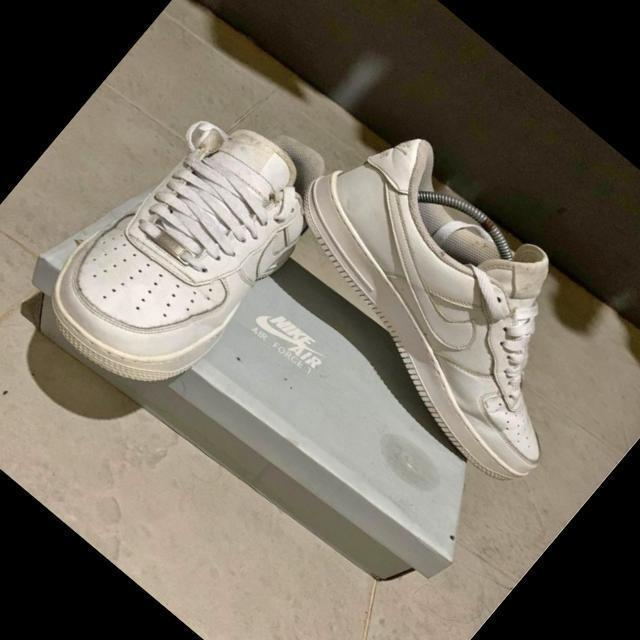nike original air force: (221, 98, 640, 506), (21, 66, 362, 422)
